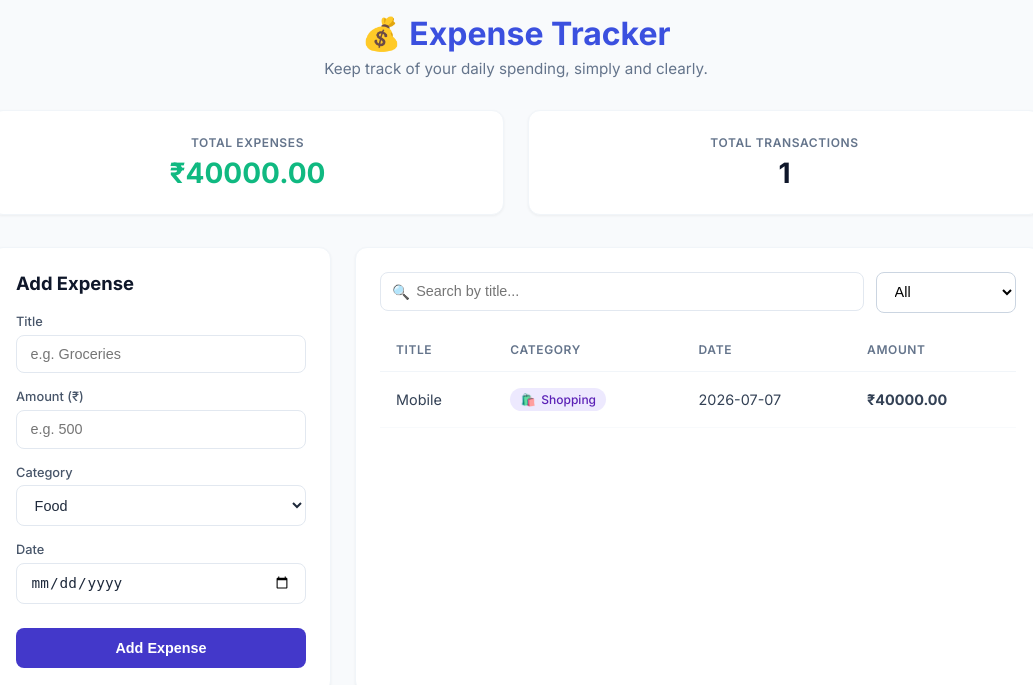
Test case: Expense Tracker App › adds a new expense and updates total
This screenshot has width=1033, height=685.
Type "Dinner" into the field with placeholder "e.g. Groceries" at (161, 354), box [16,335,306,373]
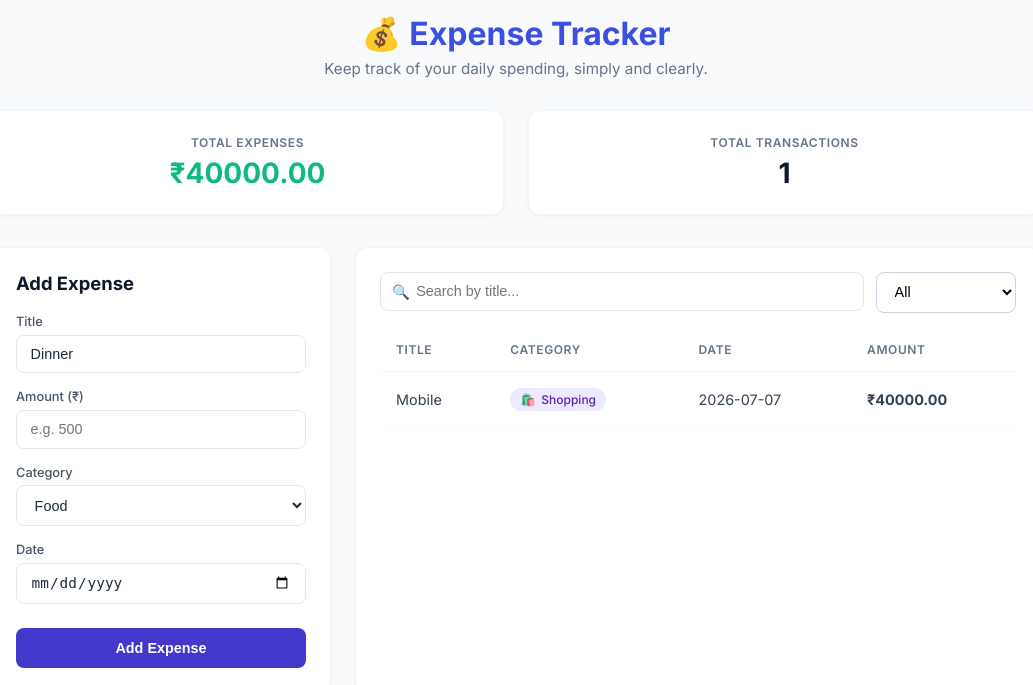
Type "1200" into the number field with placeholder "e.g. 500" at (161, 429), box [16,410,306,449]
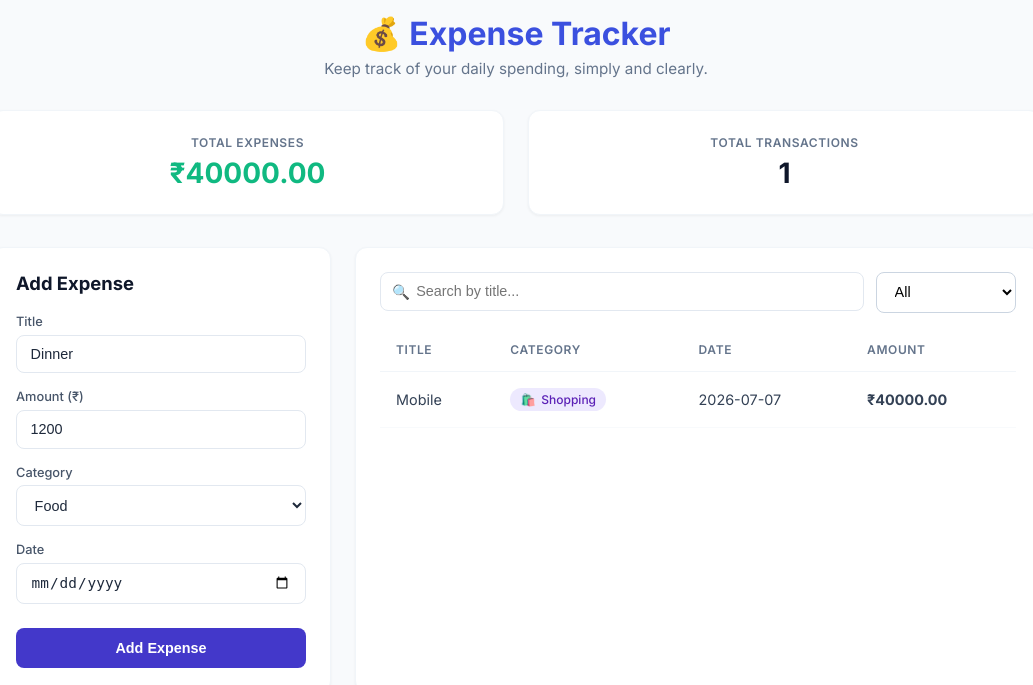
Type "2026-07-08" into the date field labelled "Date" at (161, 583), box [16,563,306,604]
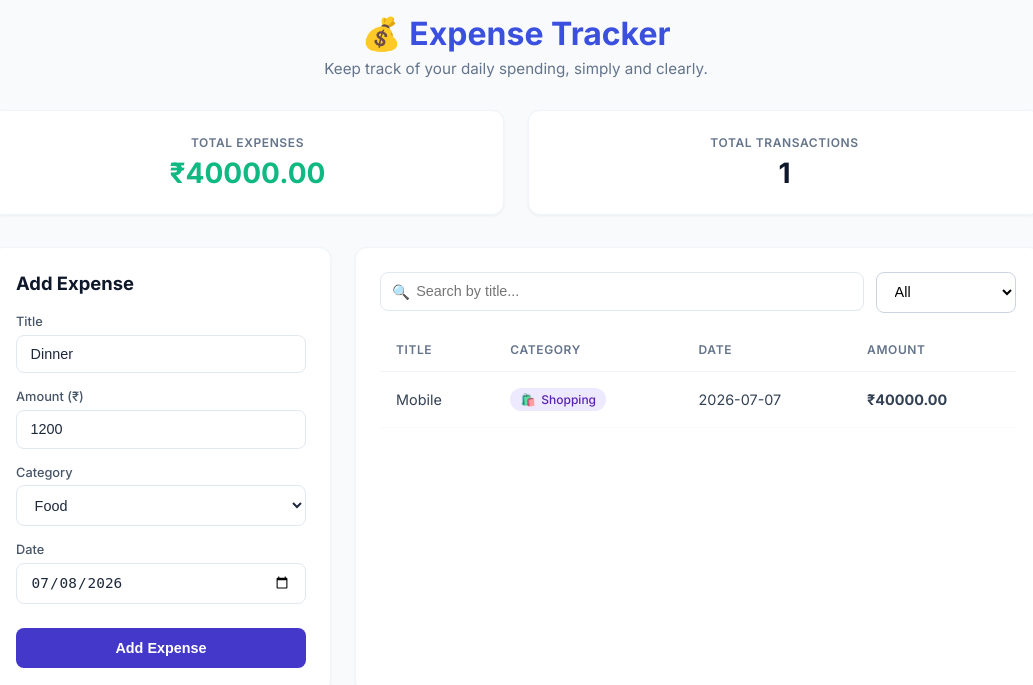
Click the button "Add Expense" at (161, 648), box [16,628,306,668]
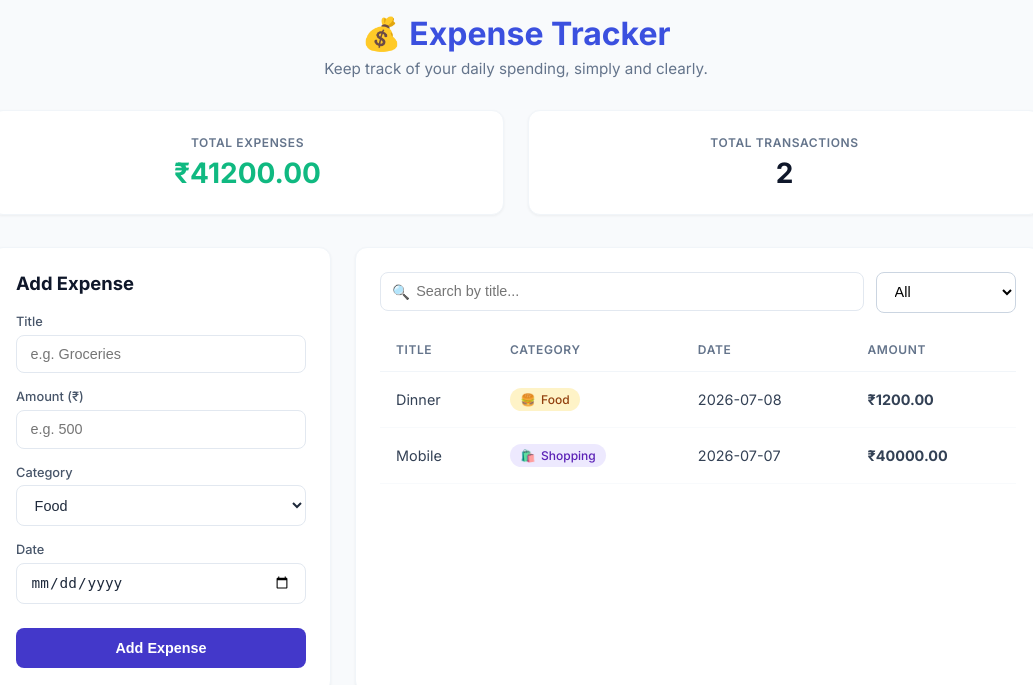
Expected: the text "Dinner" is shown, [380,372,494,428]
Expected: the text "₹41200.00" is shown, [174,156,321,190]
Expected: the text "2" is shown, [776,156,793,190]
